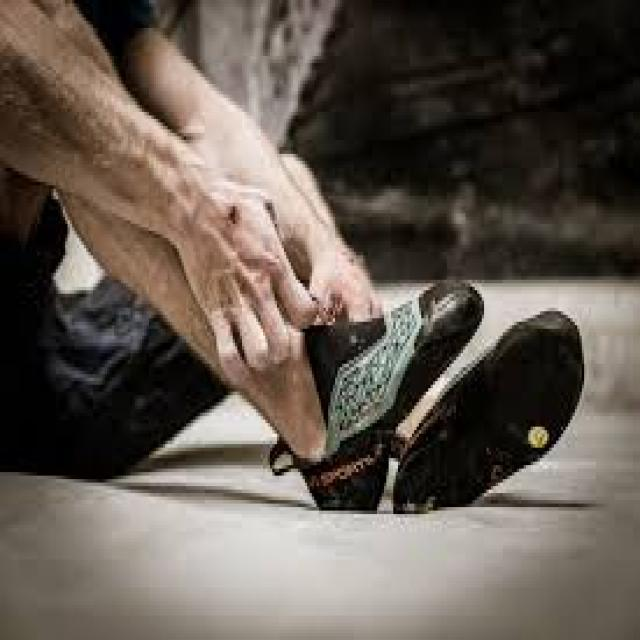climbing-shoes: (305, 271, 483, 518), (394, 311, 585, 519)
